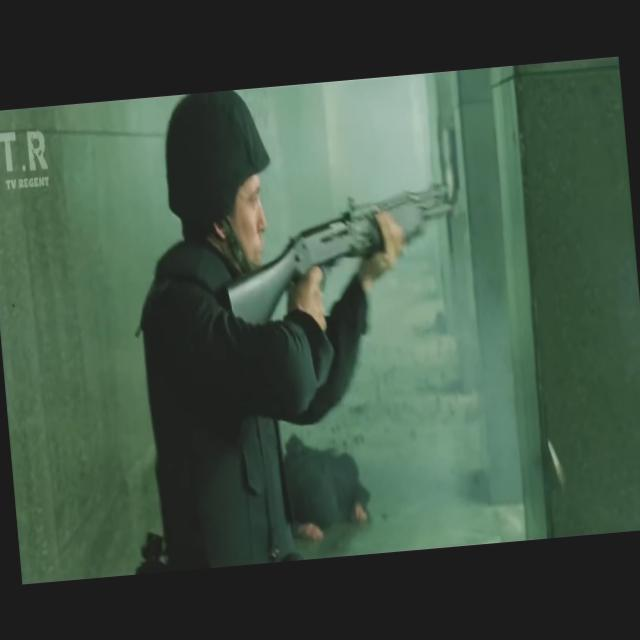long weapon: (202, 160, 482, 402)
